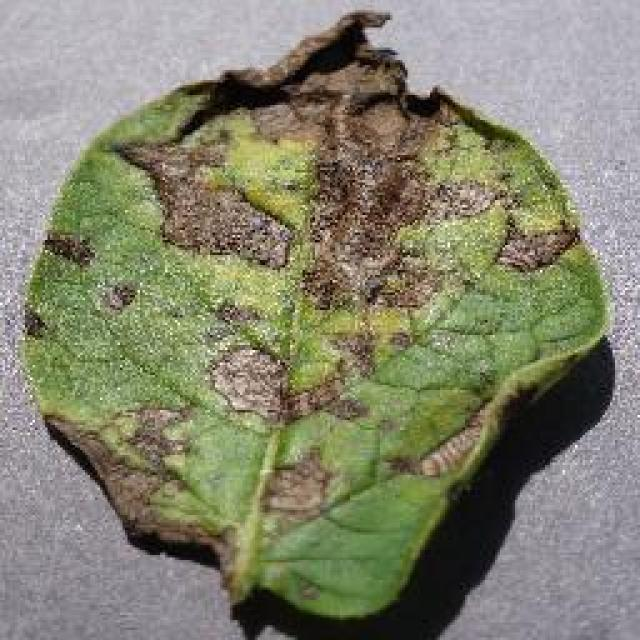early_blight: (15, 5, 615, 625)
